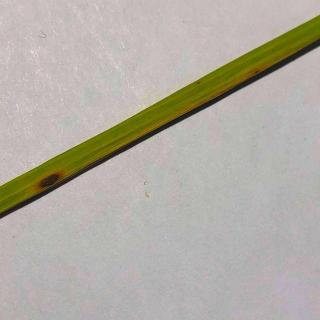Blast: (219, 64, 294, 91), (19, 164, 77, 191)
